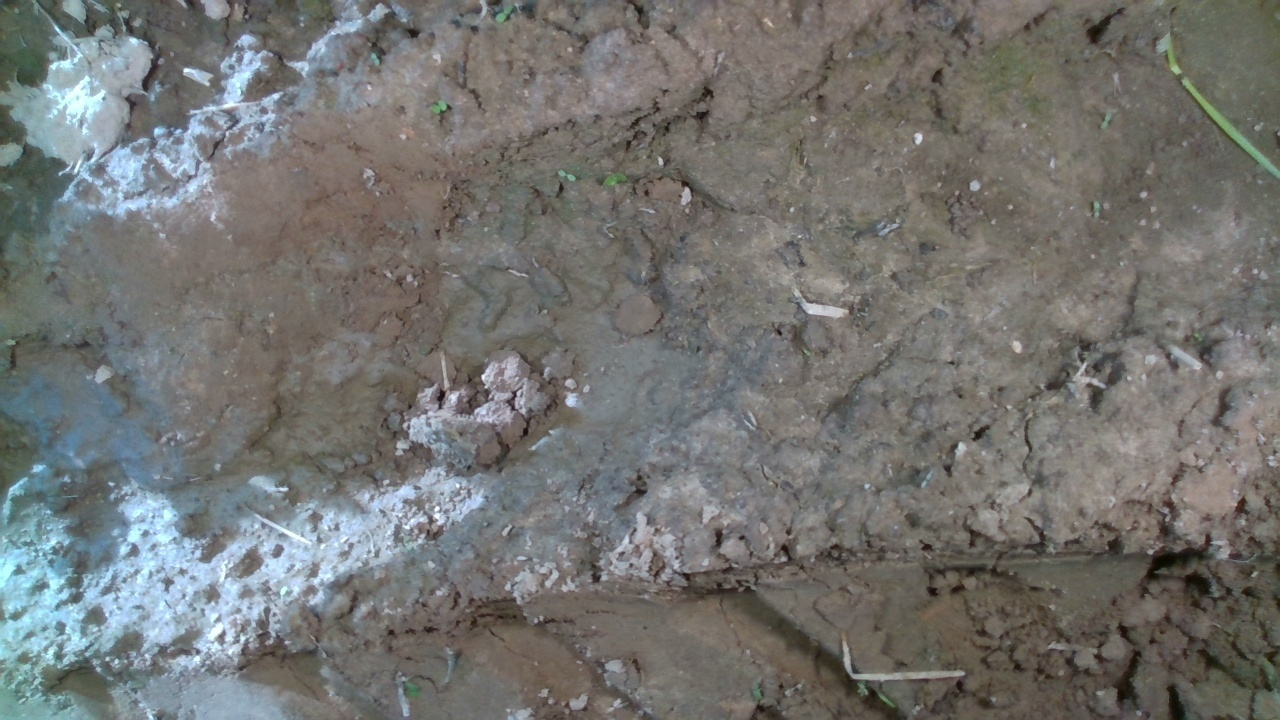weed: (555, 167, 578, 183), (426, 99, 448, 115)
